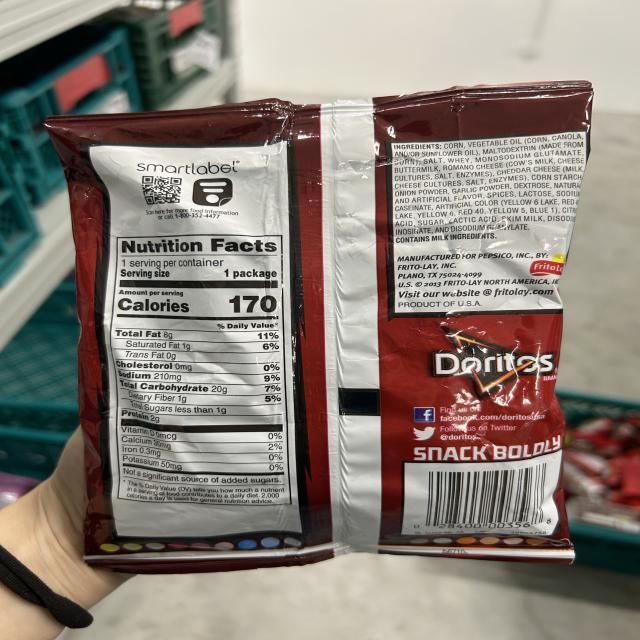object_name: (83, 116, 565, 561)
